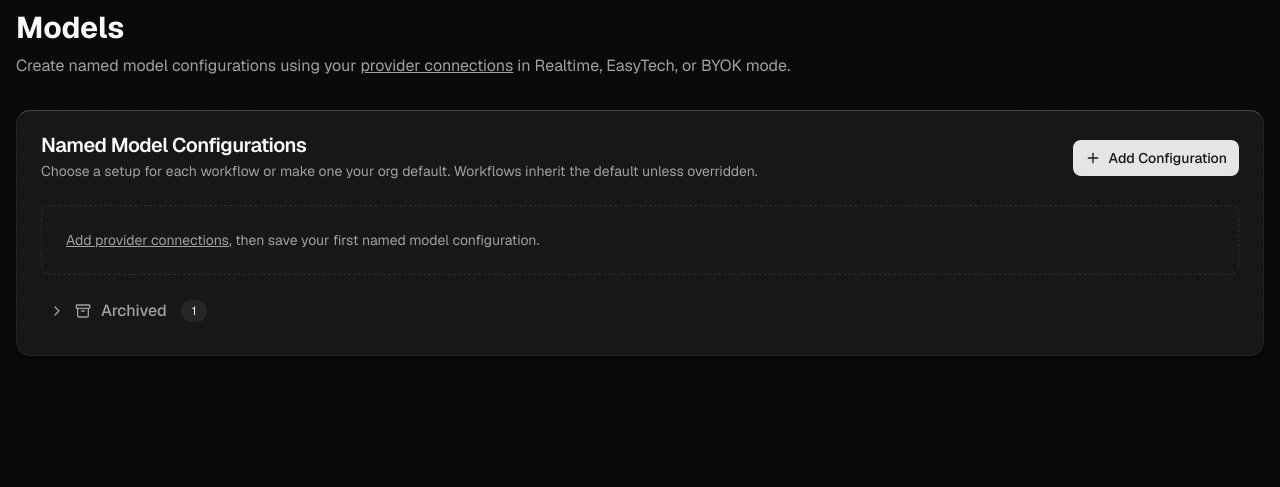
provider connection and model configuration lists › asks users to restore archived provider dependencies before restoring a model
Step 1. Click the button with aria-label "Toggle Archived" → x=134, y=310, box [41,291,1239,331]
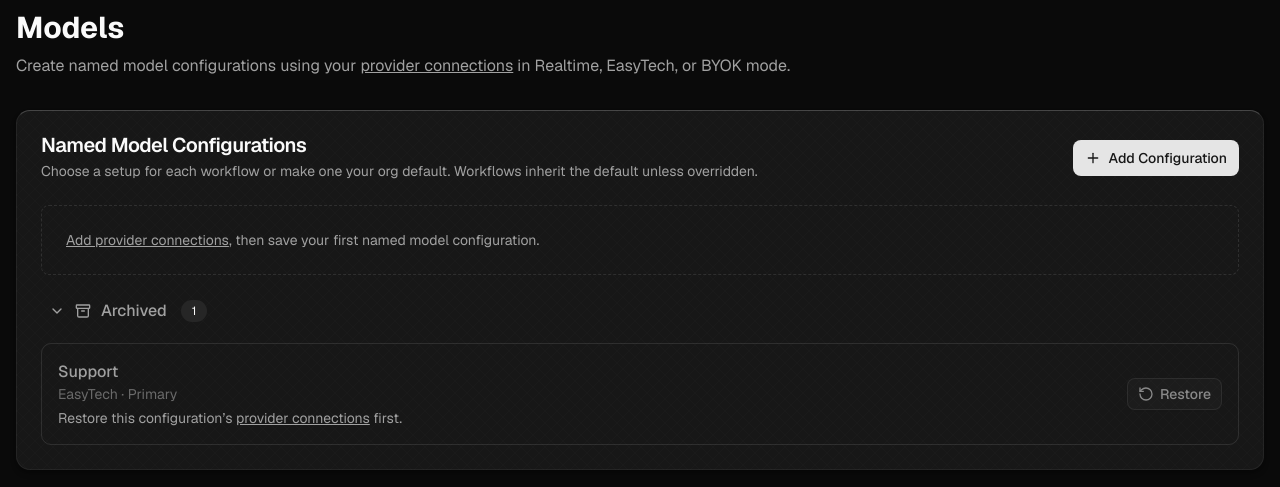
Expected: the button "Restore" is disabled, [1127,378,1222,410]
Expected: the text "Restore this configuration’s provider connections first." is shown, [58,409,402,427]
Expected: the text "EasyTech · Primary" is shown, [58,385,177,403]
